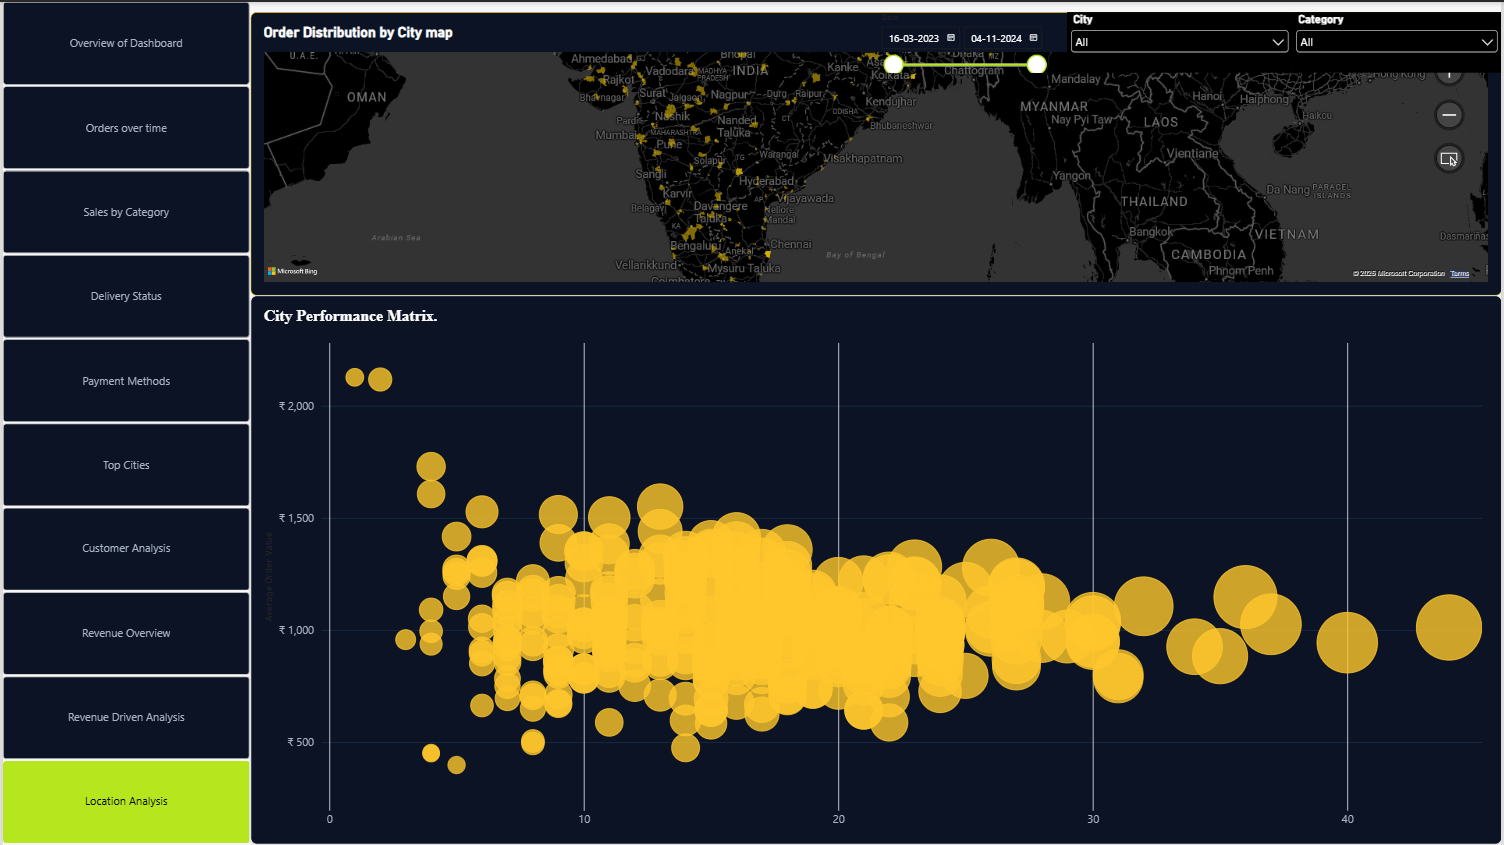

The page's visual inventory and layout, read from the dashboard file:
{"tool":"powerbi","page":{"name":"Location Analysis","canvas":[1920,1080],"ordinal":9},"visuals":[{"type":"pageNavigator","box":[0,0,316.6,1079.3],"z":0},{"type":"filledMap","title":"Order Distribution by City map","fields":{"Category":["DimCustomer.Map Location"]},"box":[316.6,12.5,1603.3,363.4],"z":1000},{"type":"scatterChart","title":"City Performance Matrix.","fields":{"Category":["DimCustomer.area"],"Size":["FactSales.Total Sales"],"X":["FactSales.Total Orders"],"Y":["FactSales.Average Order Value"]},"box":[316.6,375.9,1603.3,703.4],"z":1001},{"type":"slicer","fields":{"Values":["DimDate.Date"]},"box":[1118.3,12.5,223,78],"z":1002},{"type":"slicer","fields":{"Values":["DimCustomer.area"]},"box":[1363.2,12.5,288.5,78],"z":1003},{"type":"slicer","fields":{"Values":["DimProduct.category"]},"box":[1651.7,12.5,268.3,78],"z":1004}]}

Visuals, with their boxes on the page's 1920x1080 design canvas (x1, y1, x2, y2). These are canvas units, not pixel positions in the 1504x845 screenshot, which may show the page scaled, cropped or inside an application window:
pageNavigator: <bbox>0, 0, 317, 1079</bbox>
"Order Distribution by City map" filledMap: <bbox>317, 12, 1920, 376</bbox>
"City Performance Matrix." scatterChart: <bbox>317, 376, 1920, 1079</bbox>
slicer - DimDate.Date: <bbox>1118, 12, 1341, 90</bbox>
slicer - DimCustomer.area: <bbox>1363, 12, 1652, 90</bbox>
slicer - DimProduct.category: <bbox>1652, 12, 1920, 90</bbox>
